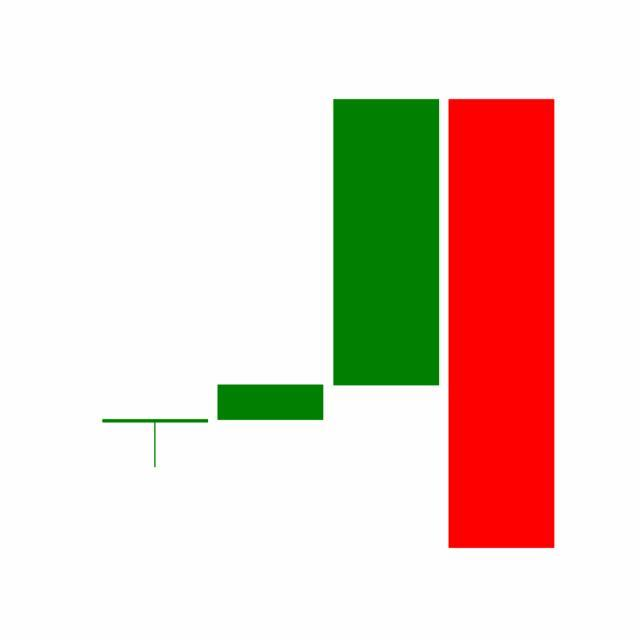Marubozu: (329, 96, 445, 389)
